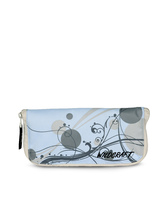other: (12, 101, 151, 169)
